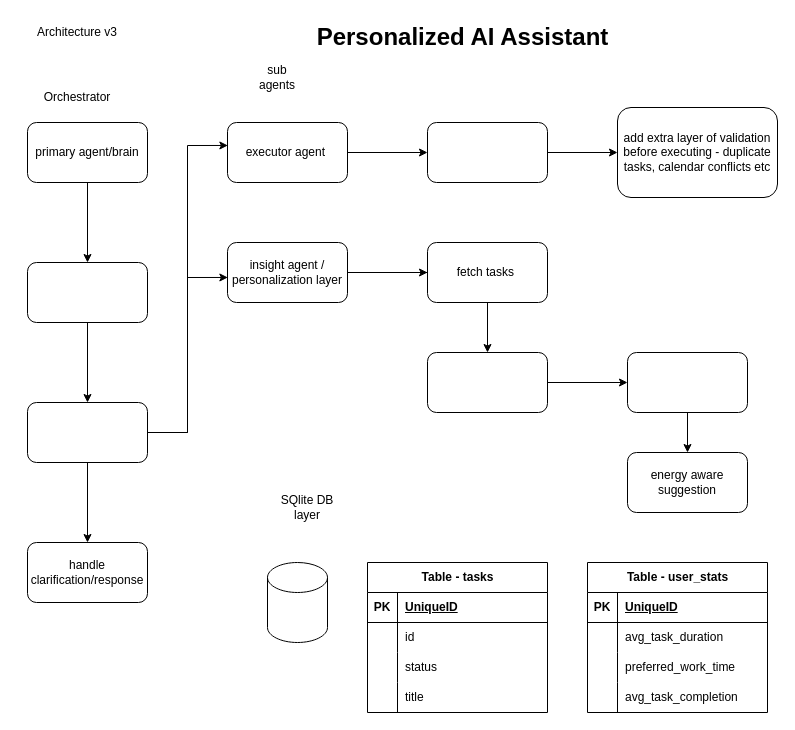
Image size: 795x730. Some labels were removed from this diagram. Here are the shapes that lost their labels. From the top down, the centre of each, then its label:
At (487,152): "calls MCP for calendar, reminders and work on tasks".
At (87,292): "classify intent".
At (487,382): "compute avg task duration, workload, overload detection".
At (687,382): "behavioral modeling".
At (87,432): "decide which agent to call".
